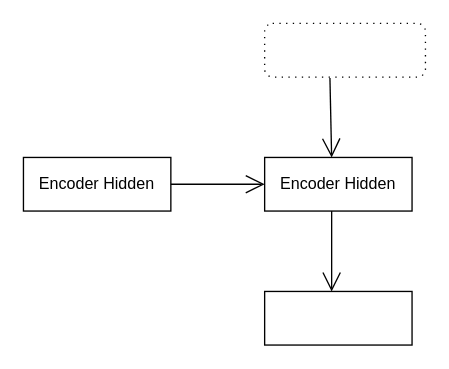
The diagram is 449 pixels wide and 369 high, and some of its shapes have lost their labels. Here are the shapes that lost their labels. From the top down, the centre of each, then its label:
At point (344, 49): "Target Sequence".
At point (337, 317): "Label Sequence".
